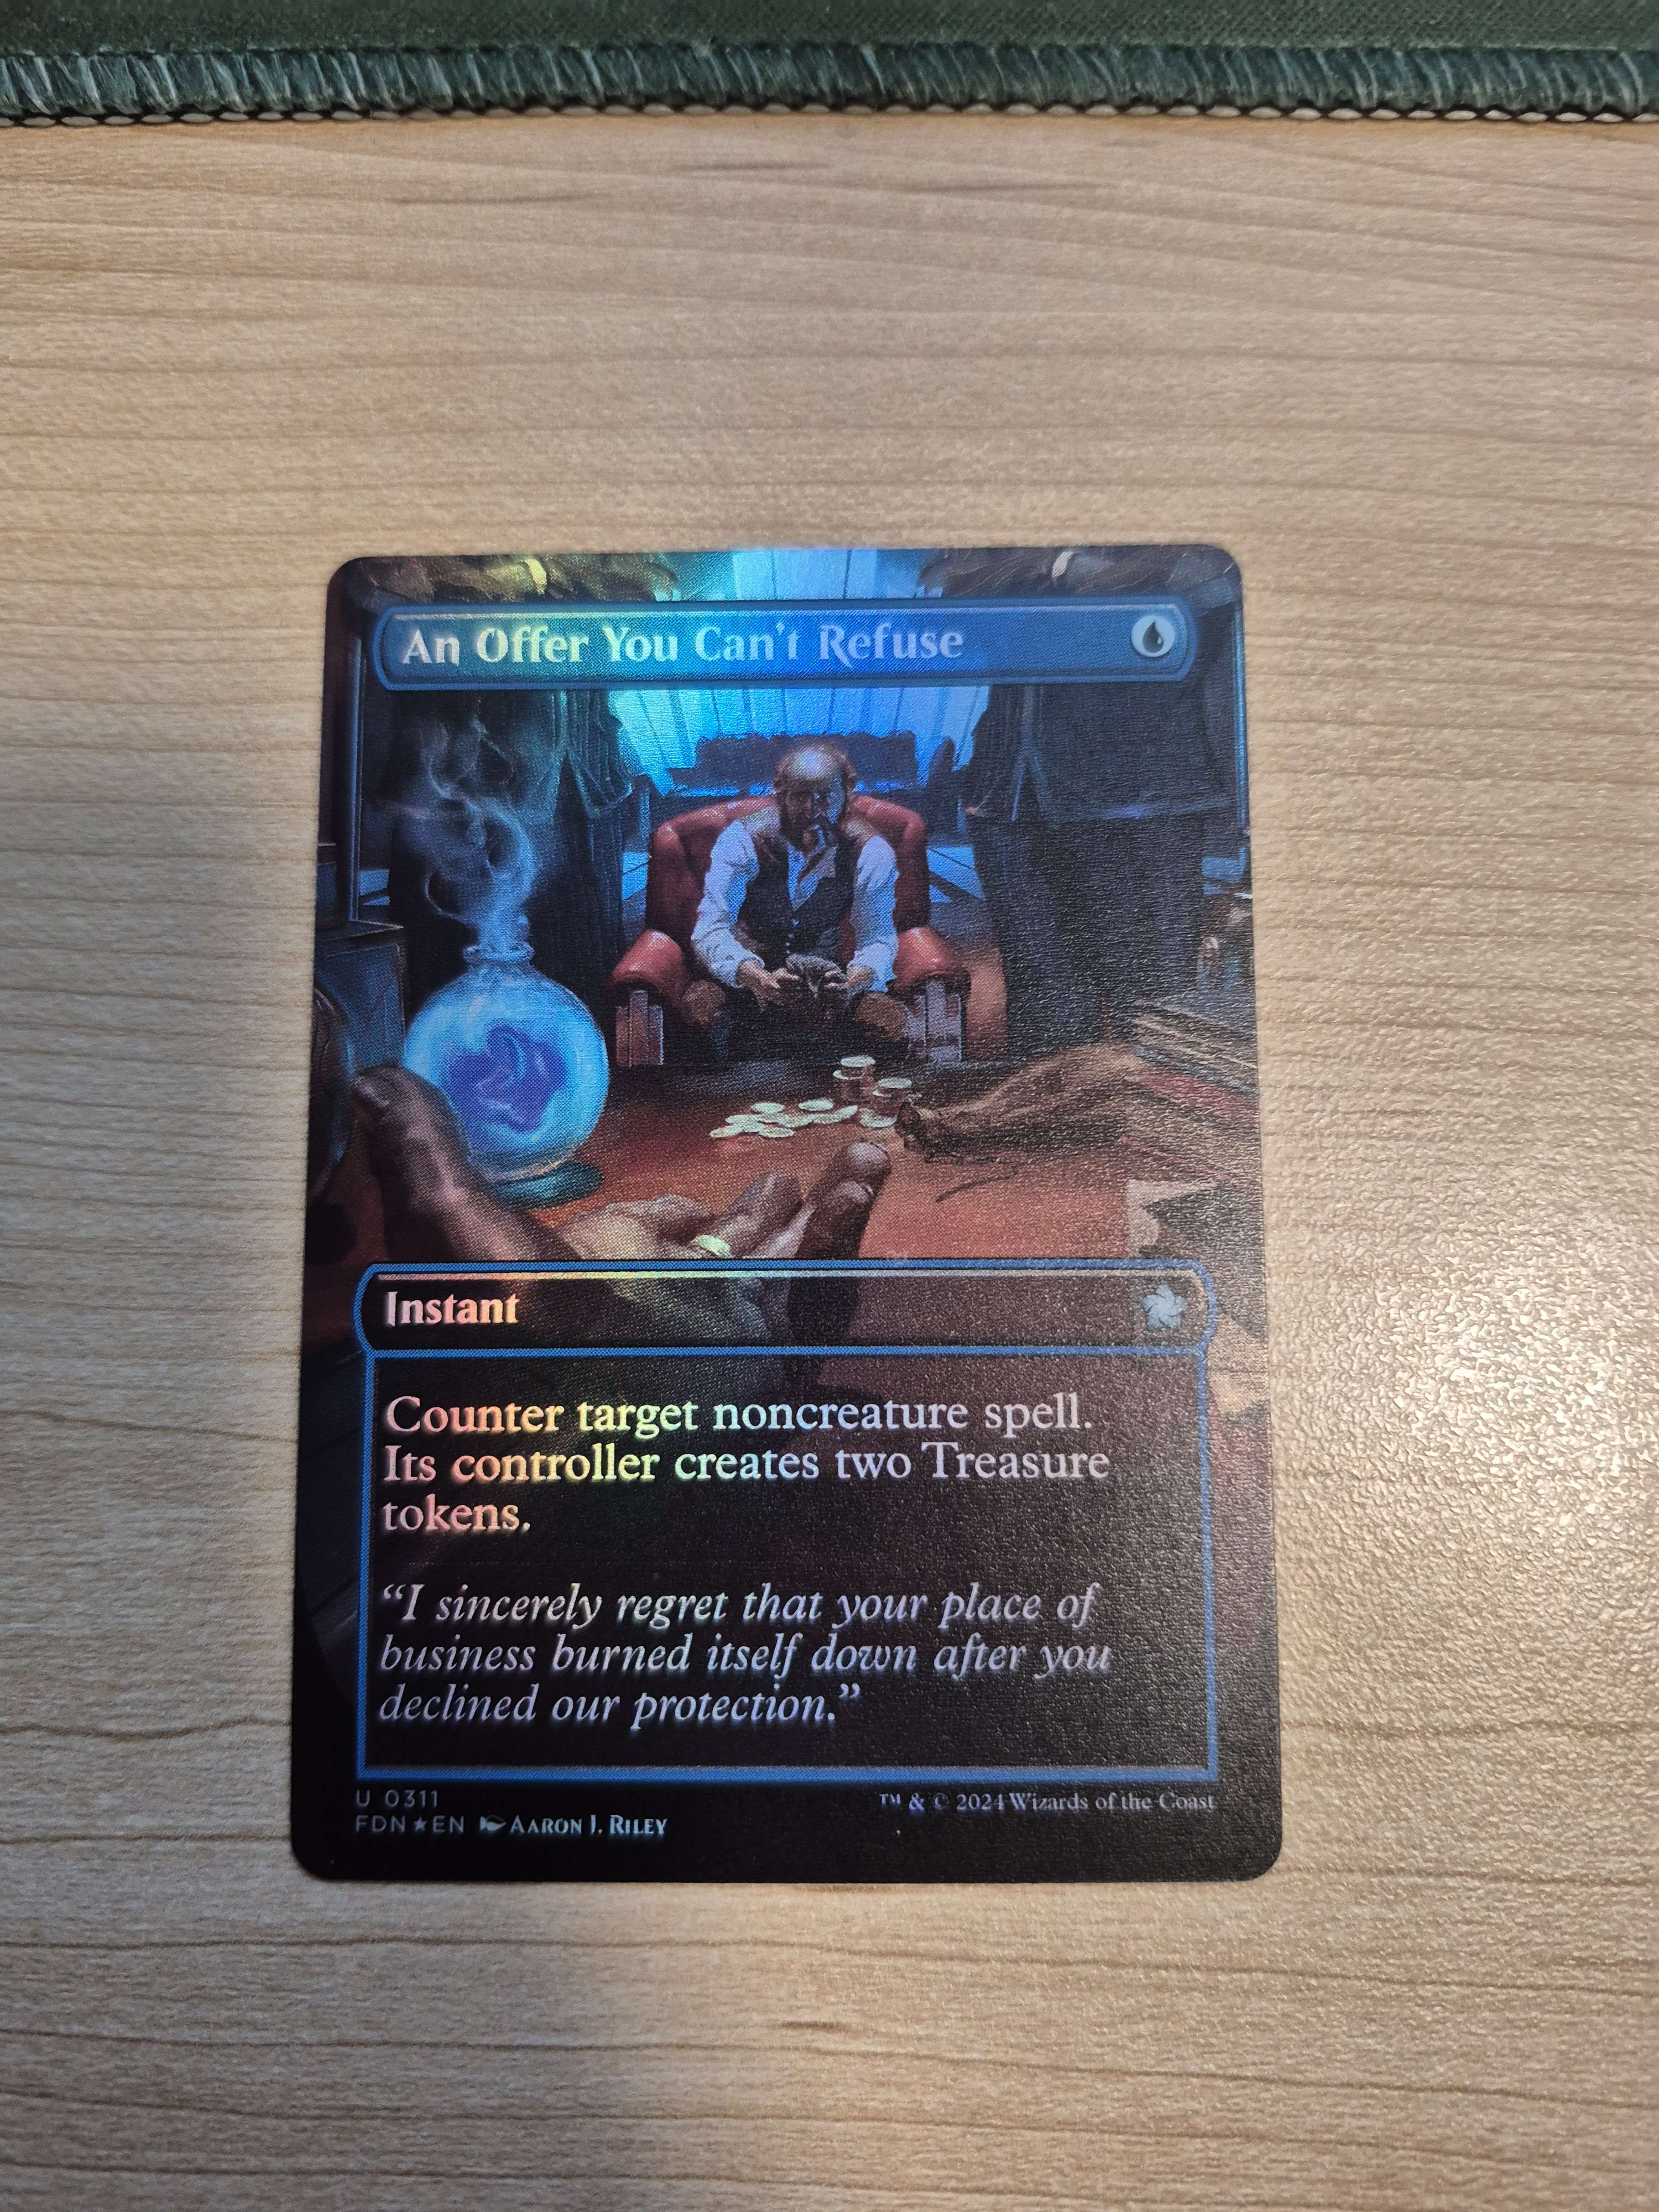mtg_card: (329, 535, 1297, 1874)
